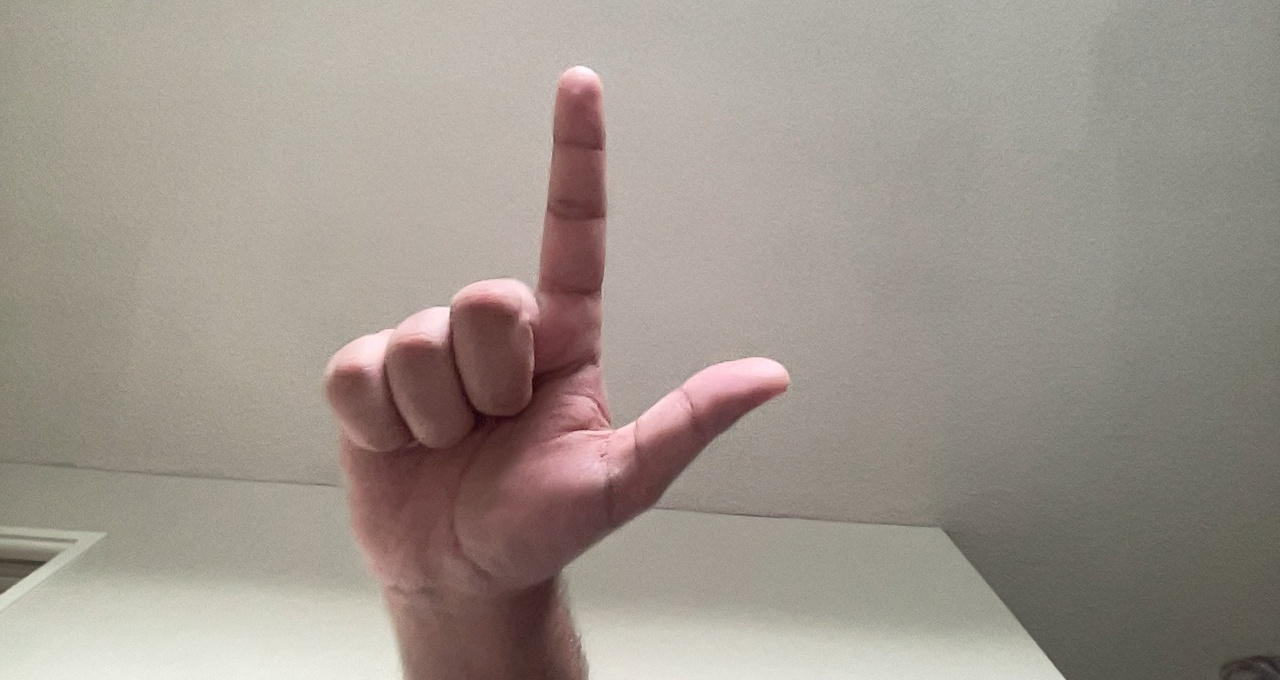L: (309, 54, 799, 647)
